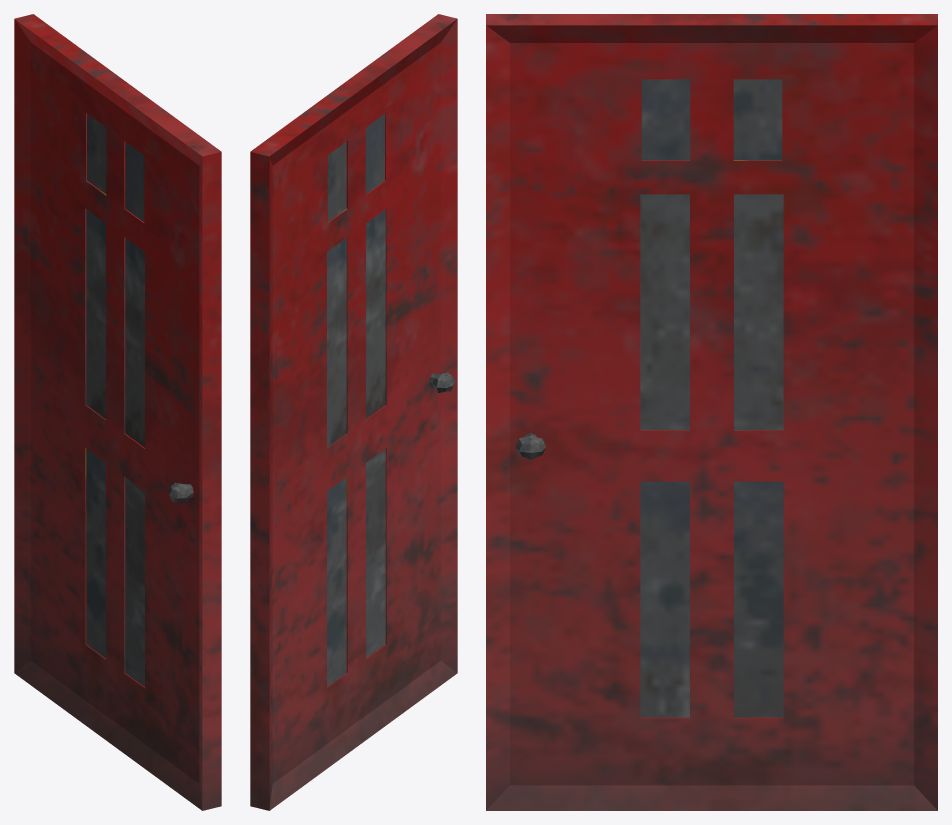
The model's file is Door3_SM.fbx.
3 renders of one model, left to right at view 1: azimuth 30°, elevation 25°; view 2: azimuth 150°, elevation 25°; view 3: azimuth 270°, elevation 25°, orthographic. The views are drawn at different scales.
Visible parts, largest first — view 1: Box013; view 2: Box013; view 3: Box013.
Boxes of the visible parts, bbox=[...] form: Box013: bbox=[14, 14, 221, 810]; Box013: bbox=[250, 14, 457, 810]; Box013: bbox=[486, 14, 937, 810].
Bounding box in the file's own units: 17.78 × 232 × 121.
